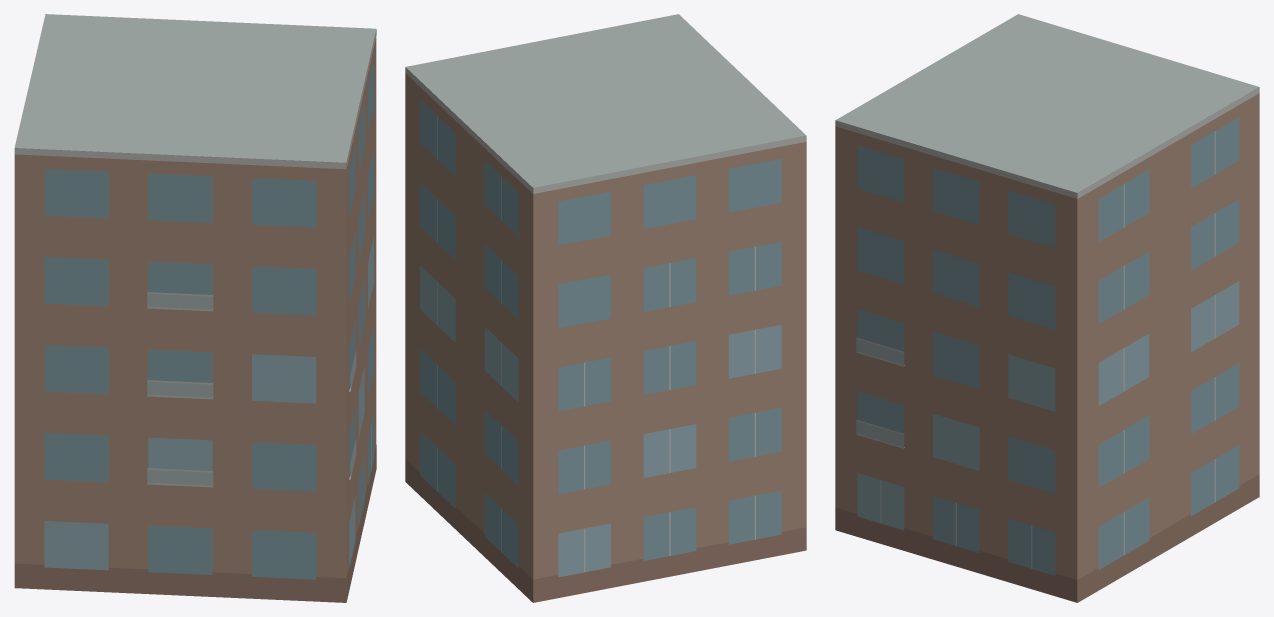
File: survey-upis-32860694.glb
3 views of the same model, side by side, from view 1: azimuth 30°, elevation 25°; view 2: azimuth 150°, elevation 25°; view 3: azimuth 270°, elevation 25° (orthographic). The views are drawn at different scales.
Parts seen in each view (by area): view 1: survey-upis-32860694.tmp; view 2: survey-upis-32860694.tmp; view 3: survey-upis-32860694.tmp.
Part boxes in pixels (left/top/right/bottom): survey-upis-32860694.tmp: left=14, top=14, right=376, bottom=602; survey-upis-32860694.tmp: left=405, top=14, right=806, bottom=602; survey-upis-32860694.tmp: left=835, top=14, right=1259, bottom=602.
Size of the model in its own units: 15.55 by 16.6 by 15.58.
